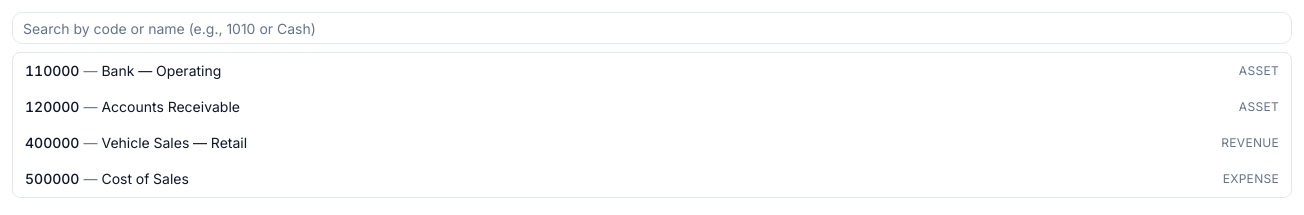
Test case: GLAccountPicker › shows an empty-state message when no accounts match
The width and height of the screenshot is (1304, 215).
Type "zzzz" into the search field at (652, 28), box [12,12,1292,44]
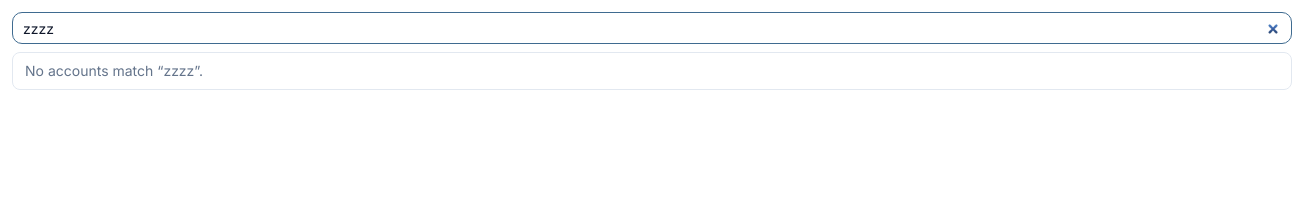
Check: the list item "No accounts match “zzzz”." is shown, box [25,62,203,79]
